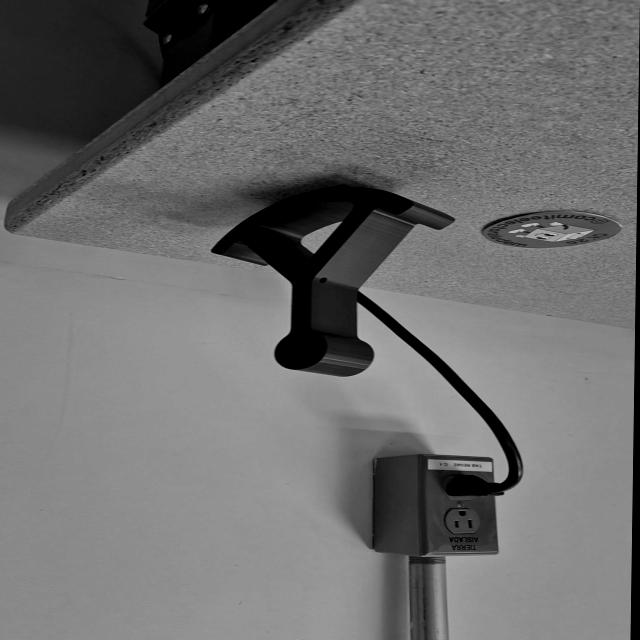haptic: (207, 186, 458, 378)
